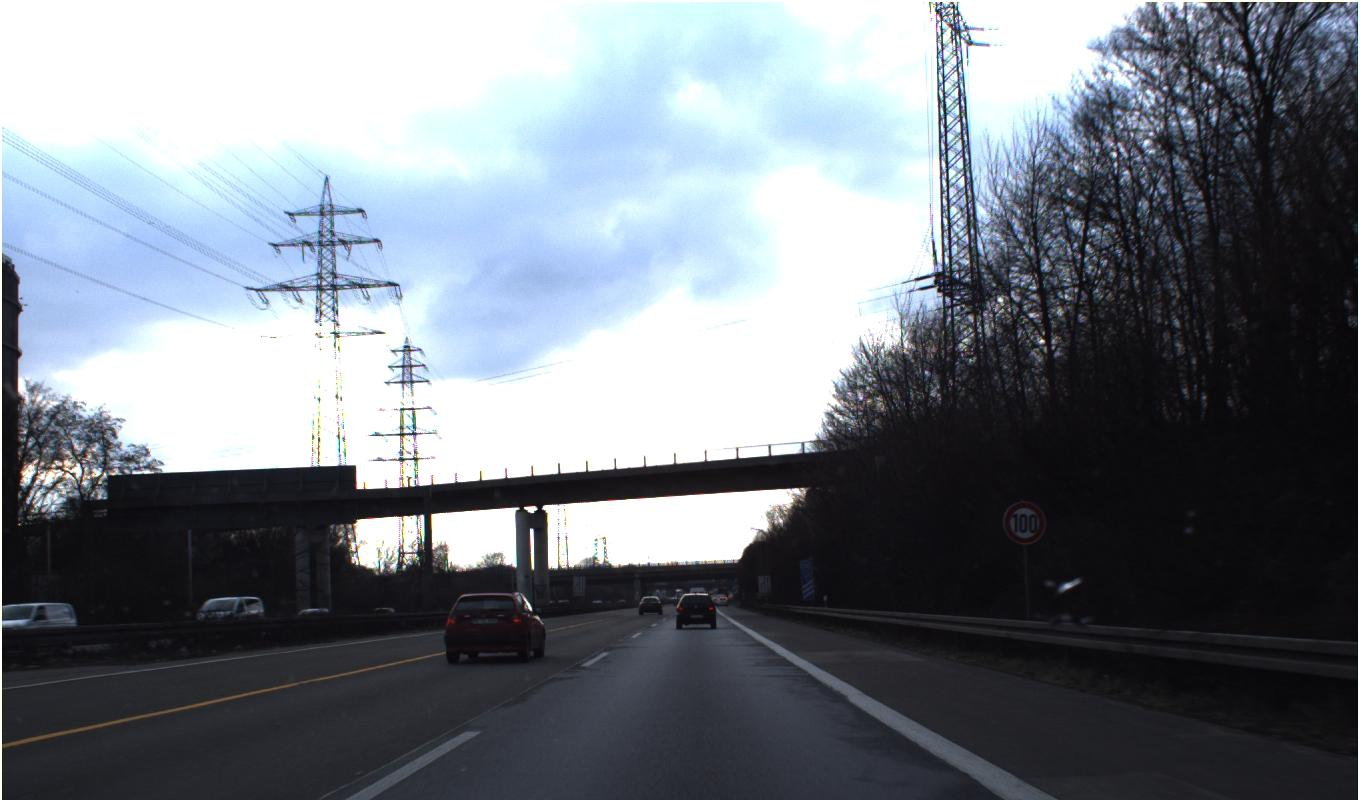prohibitory: (1002, 499, 1047, 545)
